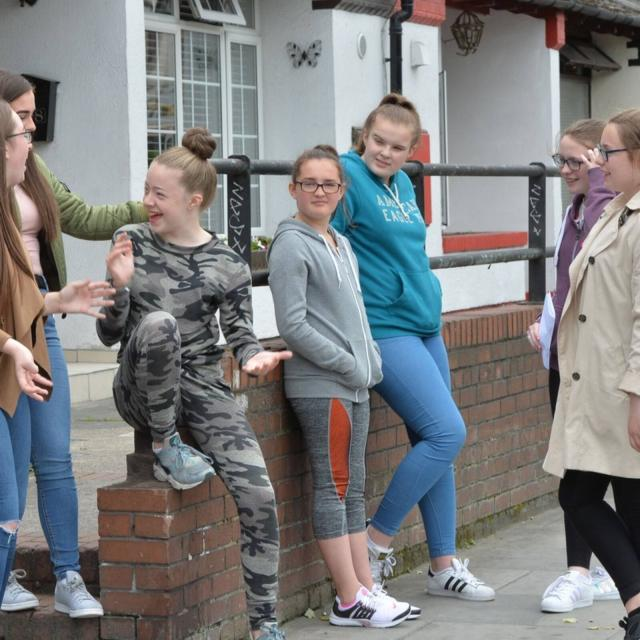human: (97, 121, 293, 640), (318, 89, 502, 606), (0, 53, 138, 632), (265, 138, 421, 633), (549, 97, 640, 639), (0, 87, 115, 454), (514, 114, 626, 238)
loitering: (89, 117, 299, 640), (325, 91, 505, 610), (274, 135, 424, 626), (0, 97, 123, 619), (546, 103, 640, 640), (517, 112, 623, 234)
